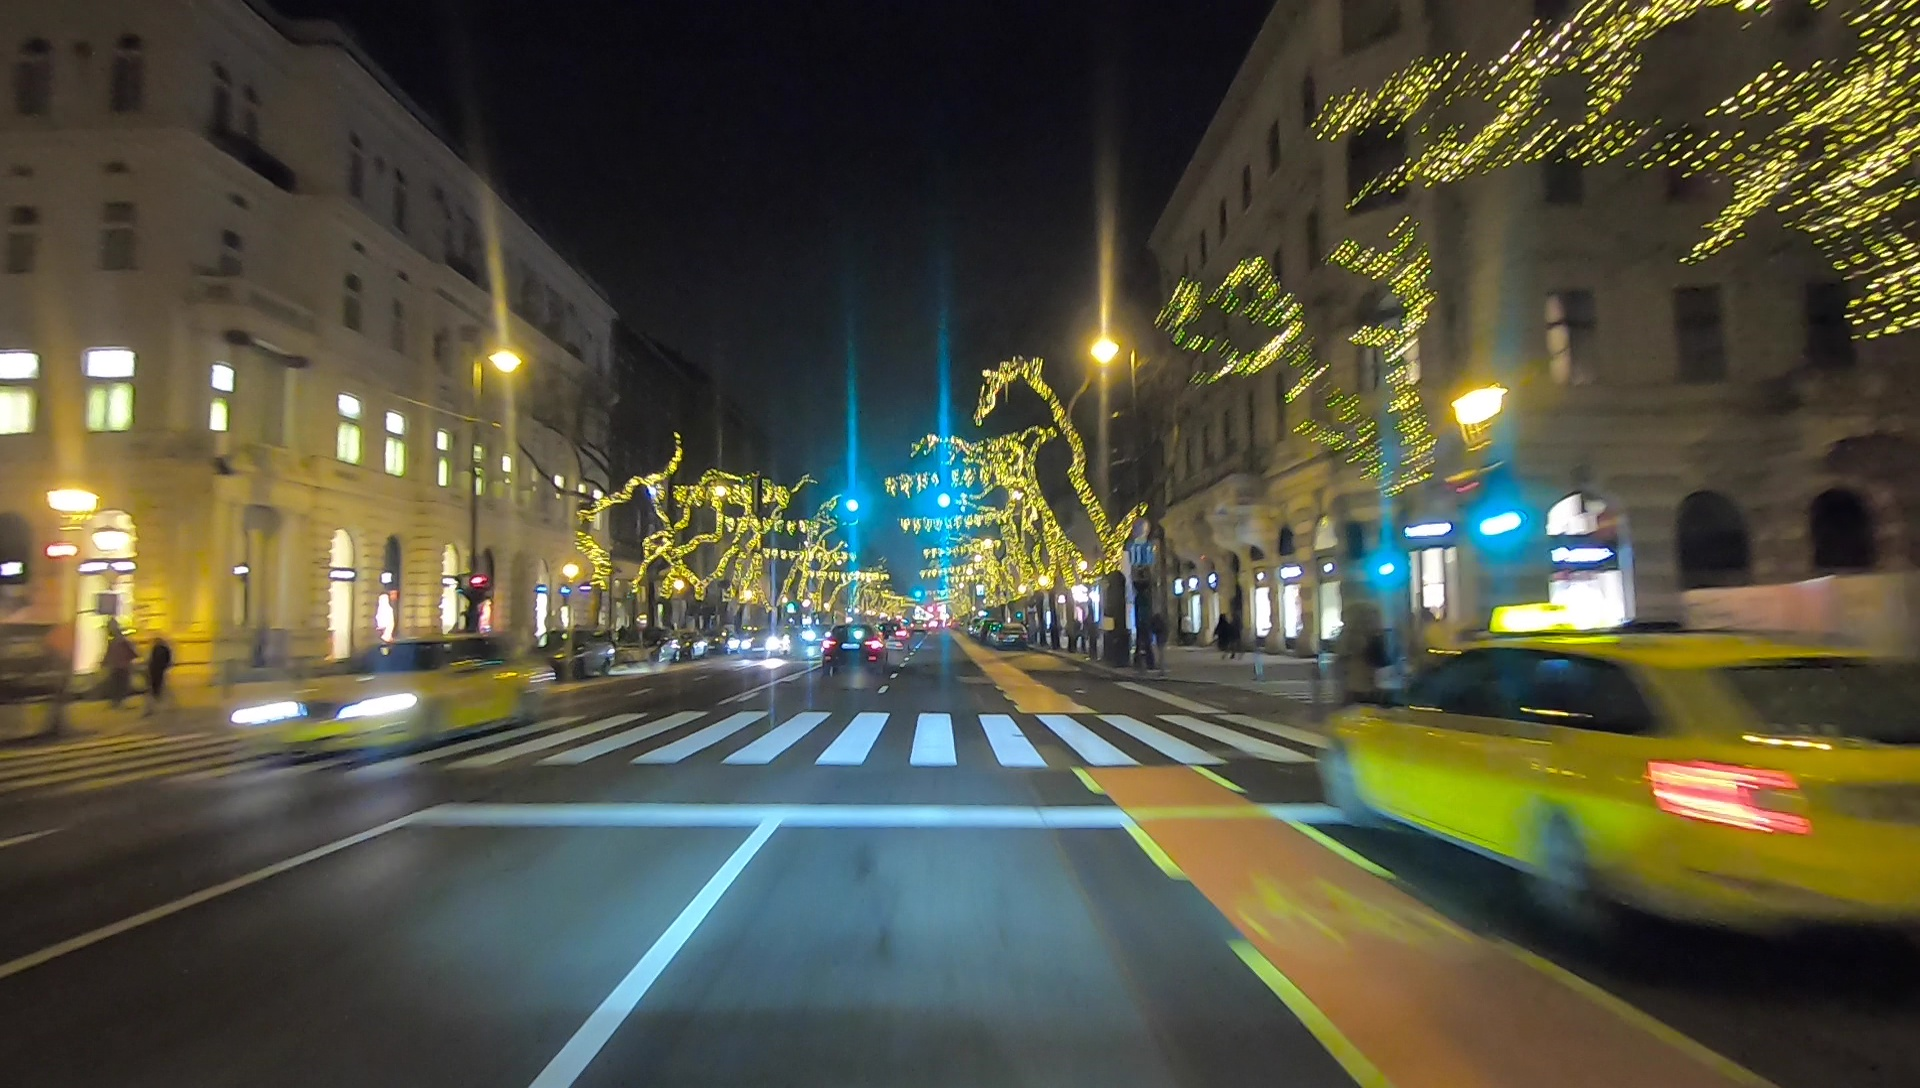person: (143, 637, 176, 715), (110, 630, 136, 715)
